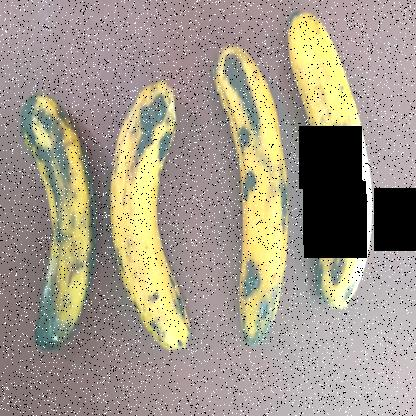overripe: (213, 26, 294, 360), (107, 75, 196, 363)
rotten: (6, 54, 112, 375), (286, 1, 383, 327)
